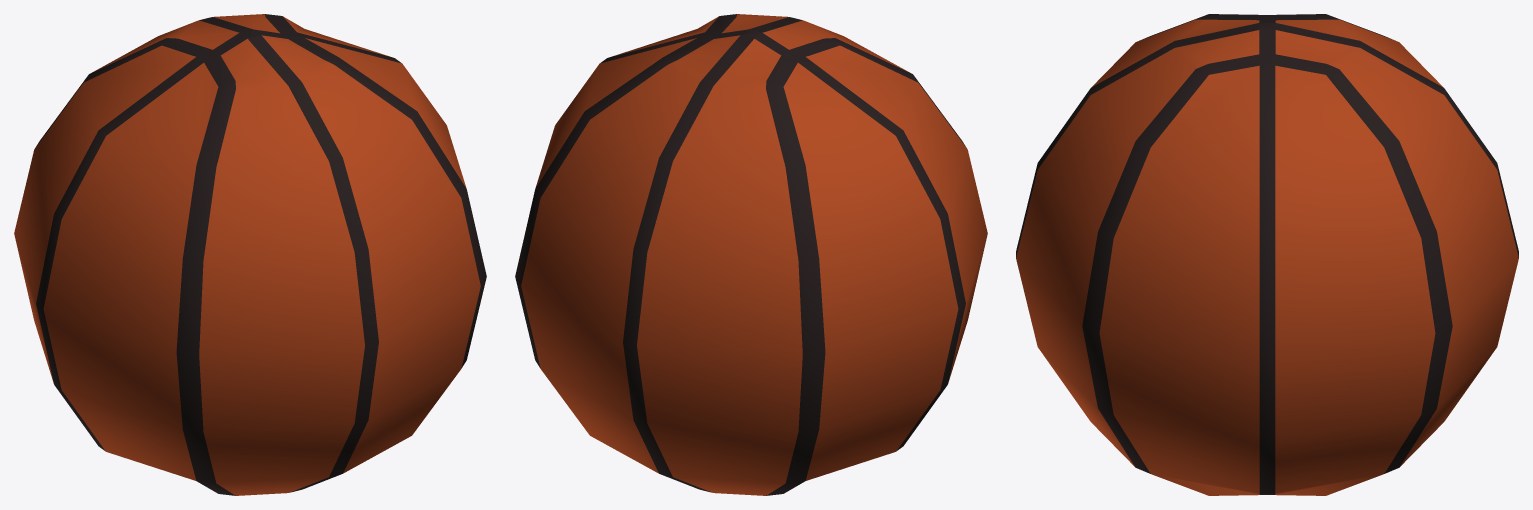
The model's file is 59_prop_basketball.FBX.
3 renders of one model, left to right at view 1: azimuth 30°, elevation 25°; view 2: azimuth 150°, elevation 25°; view 3: azimuth 270°, elevation 25°, orthographic. The views are drawn at different scales.
Parts seen in each view (by area): view 1: prop_basketball; view 2: prop_basketball; view 3: prop_basketball.
Part boxes in pixels (<box>): prop_basketball: <box>14,14,486,495</box>; prop_basketball: <box>515,14,987,495</box>; prop_basketball: <box>1016,14,1518,495</box>.
Bounding box in the file's own units: 26.69 × 26.75 × 26.67.
